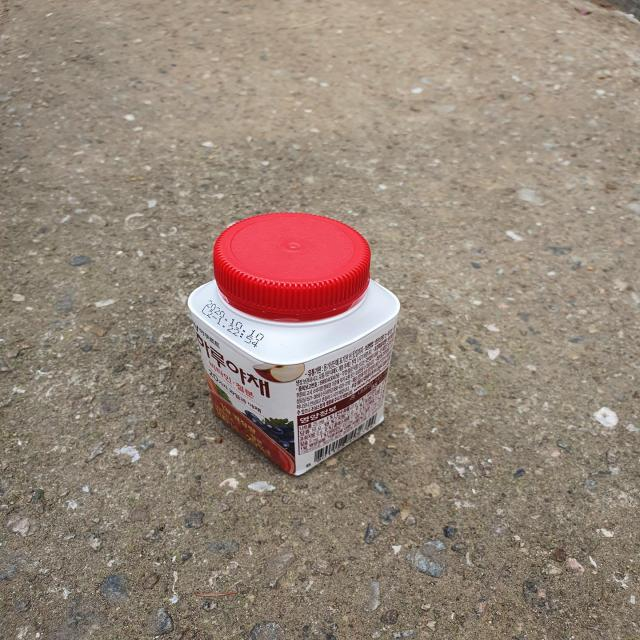paperpack: (187, 212, 400, 476)
